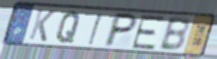B: (158, 16, 191, 52)
E: (130, 14, 168, 51)
I: (87, 11, 105, 47)
K: (27, 8, 57, 44)
P: (101, 11, 140, 48)
Q: (54, 11, 82, 45)
